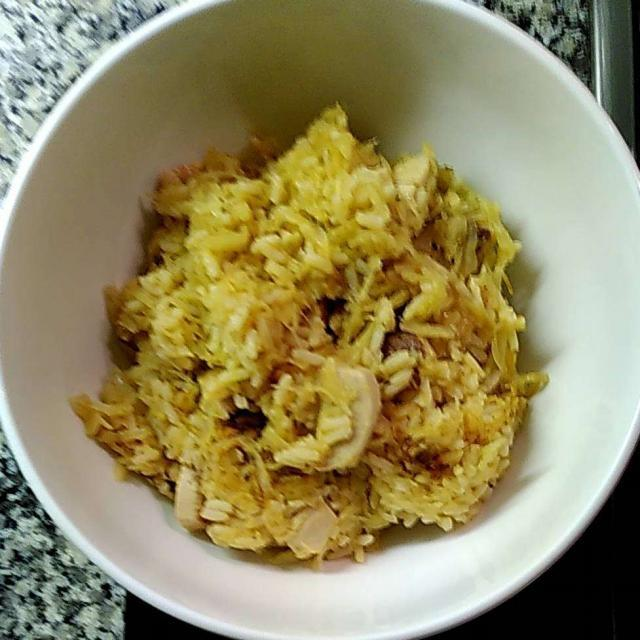rice: (123, 117, 520, 527)
sauerkraut: (206, 183, 497, 458)
